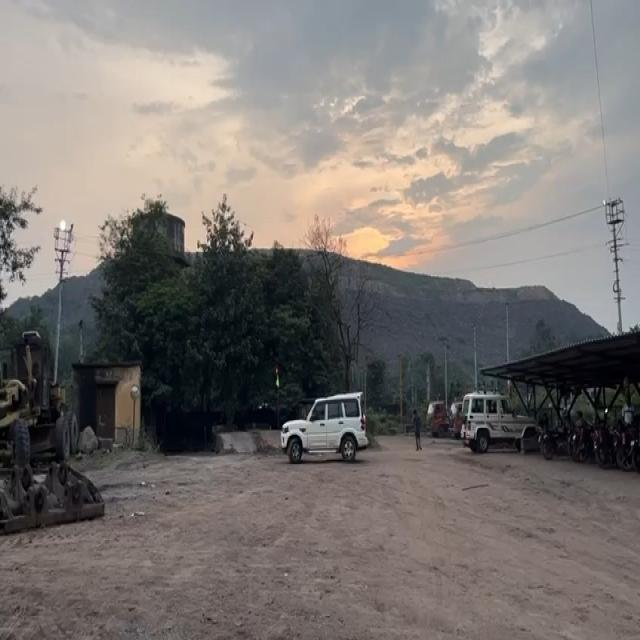light_vehicle: (281, 391, 370, 464), (464, 391, 533, 452)
